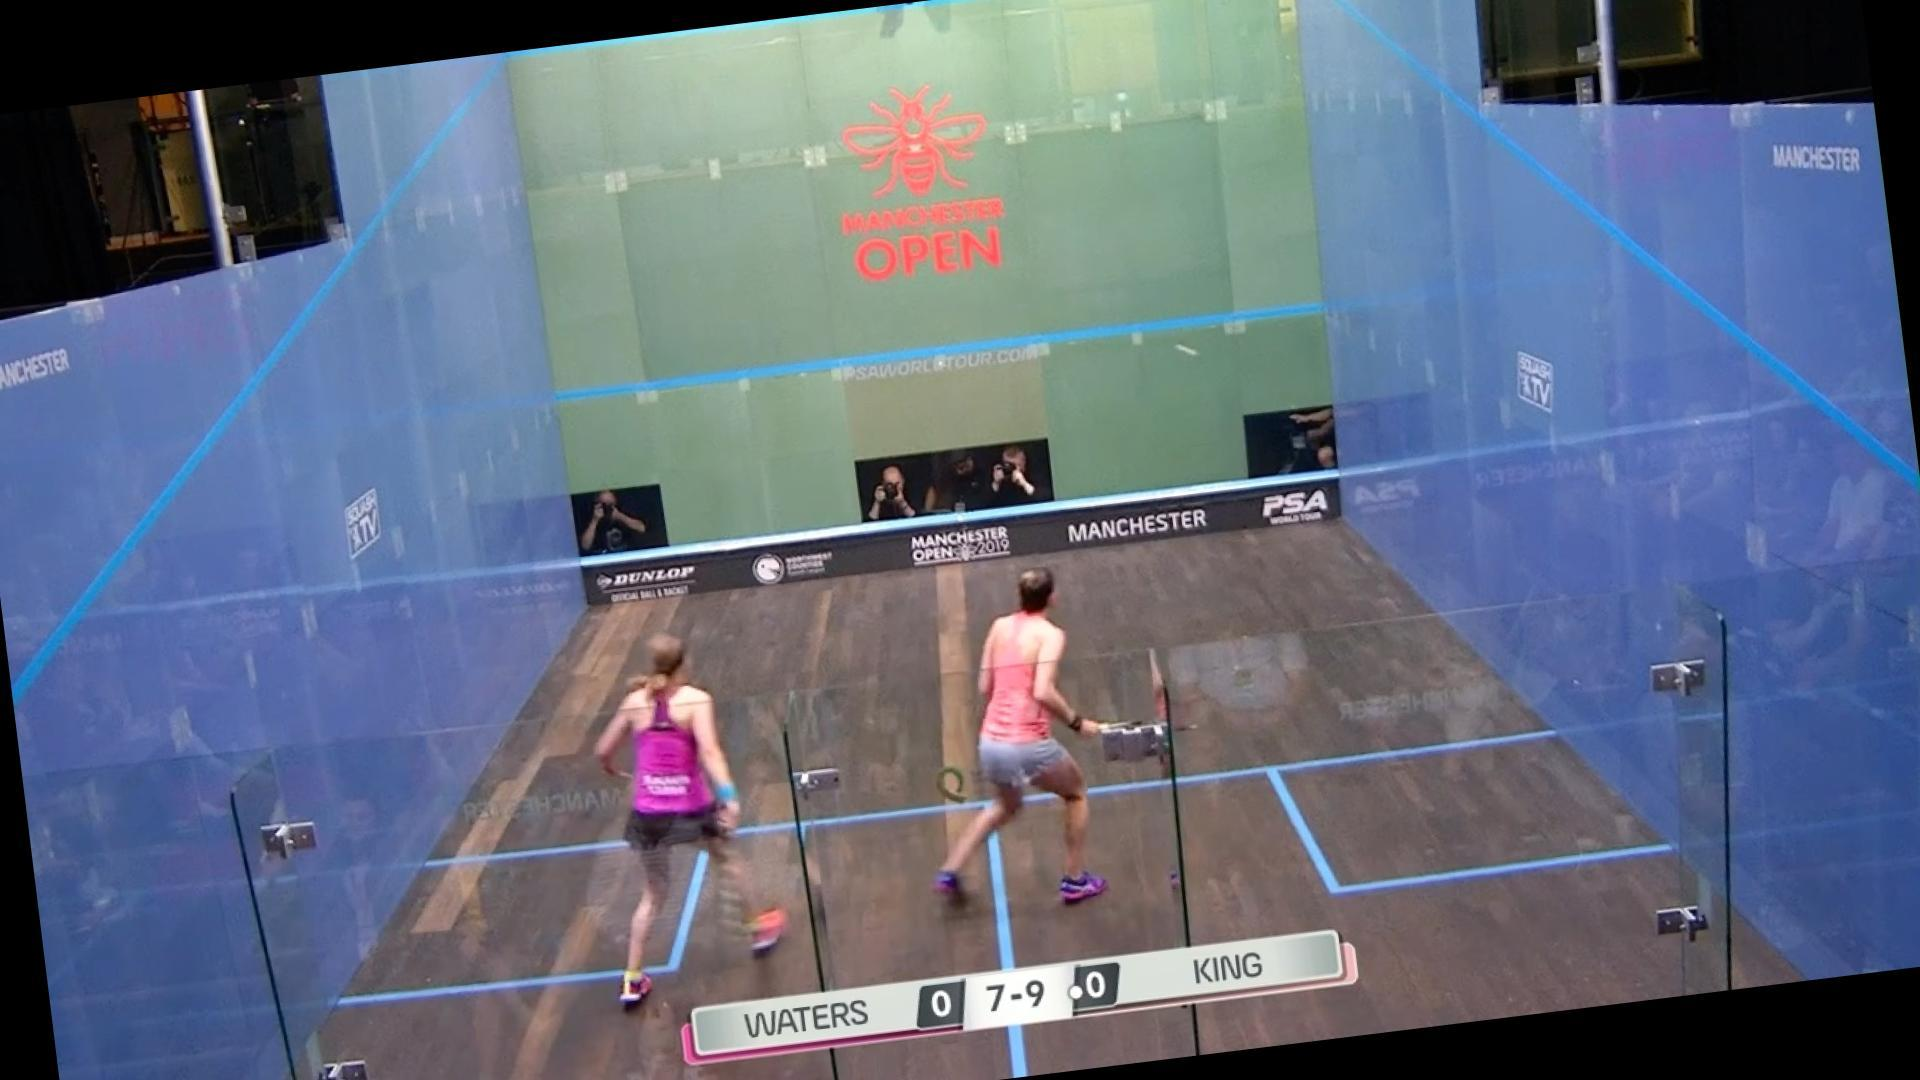Squash-Ball: (1163, 328, 1213, 373)
